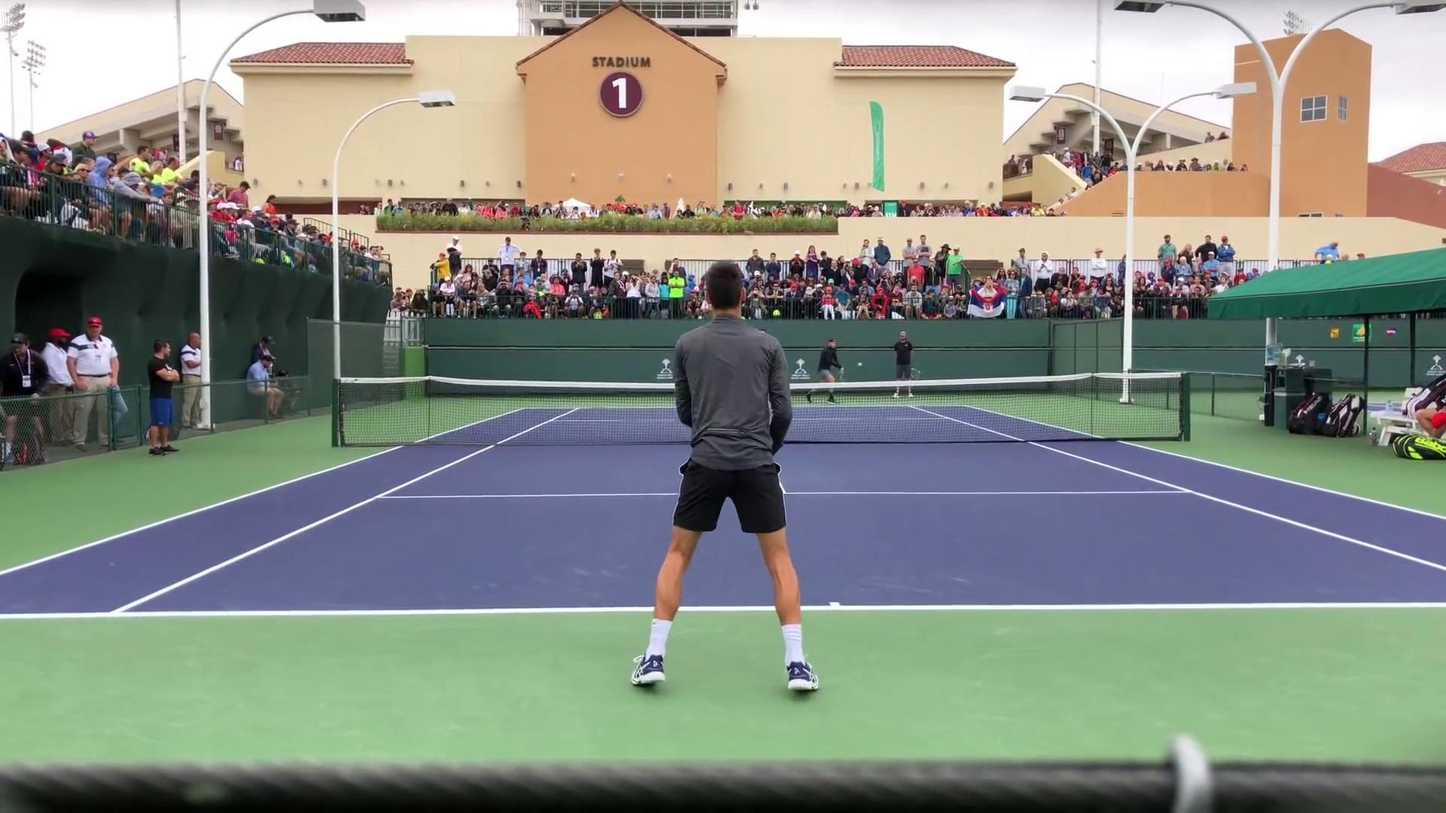ball: (857, 360, 863, 367)
